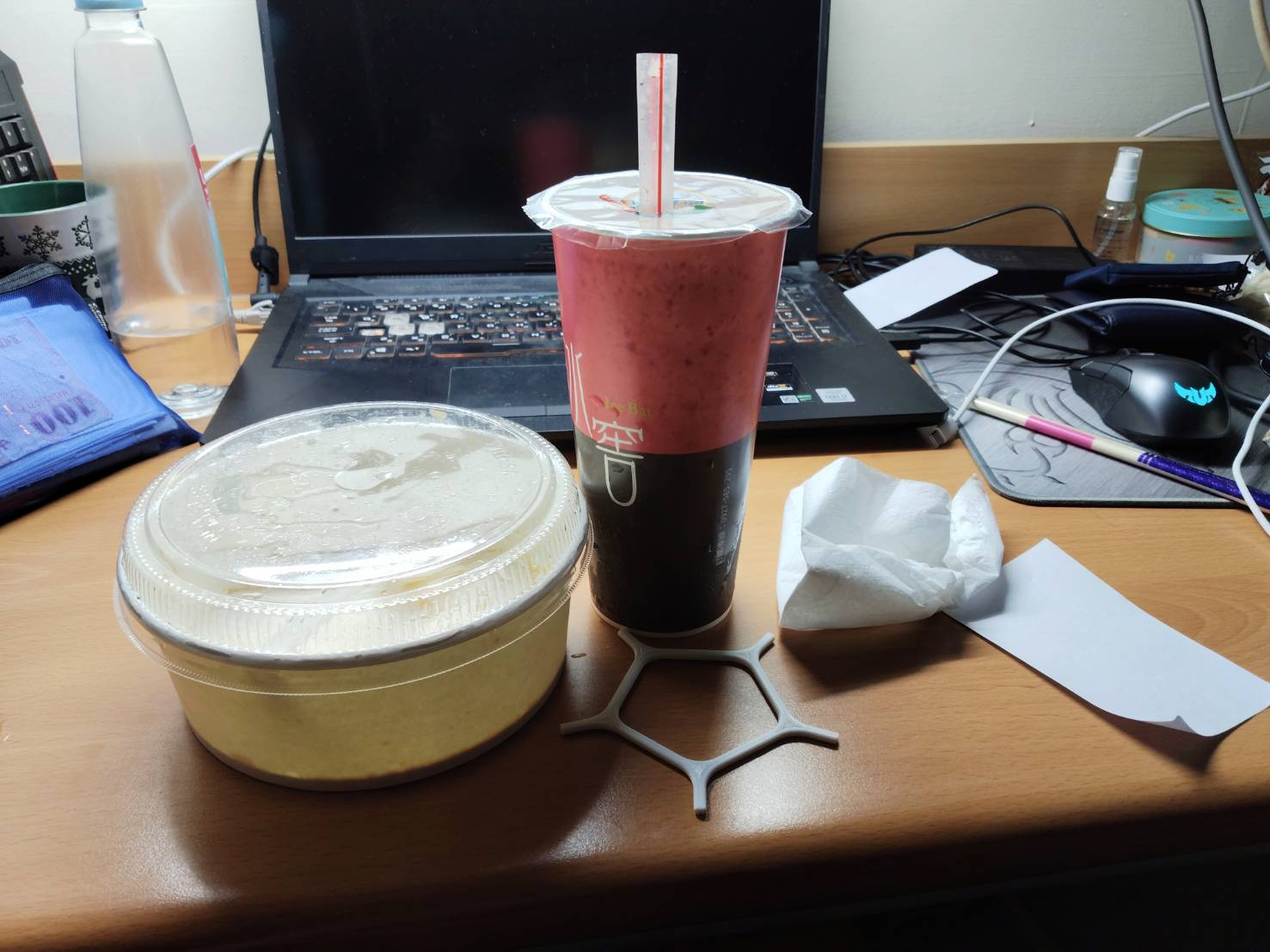General waste: (784, 455, 999, 646)
paper: (83, 371, 597, 815), (488, 34, 781, 665), (923, 509, 1270, 794)
plastic: (573, 600, 832, 835)
